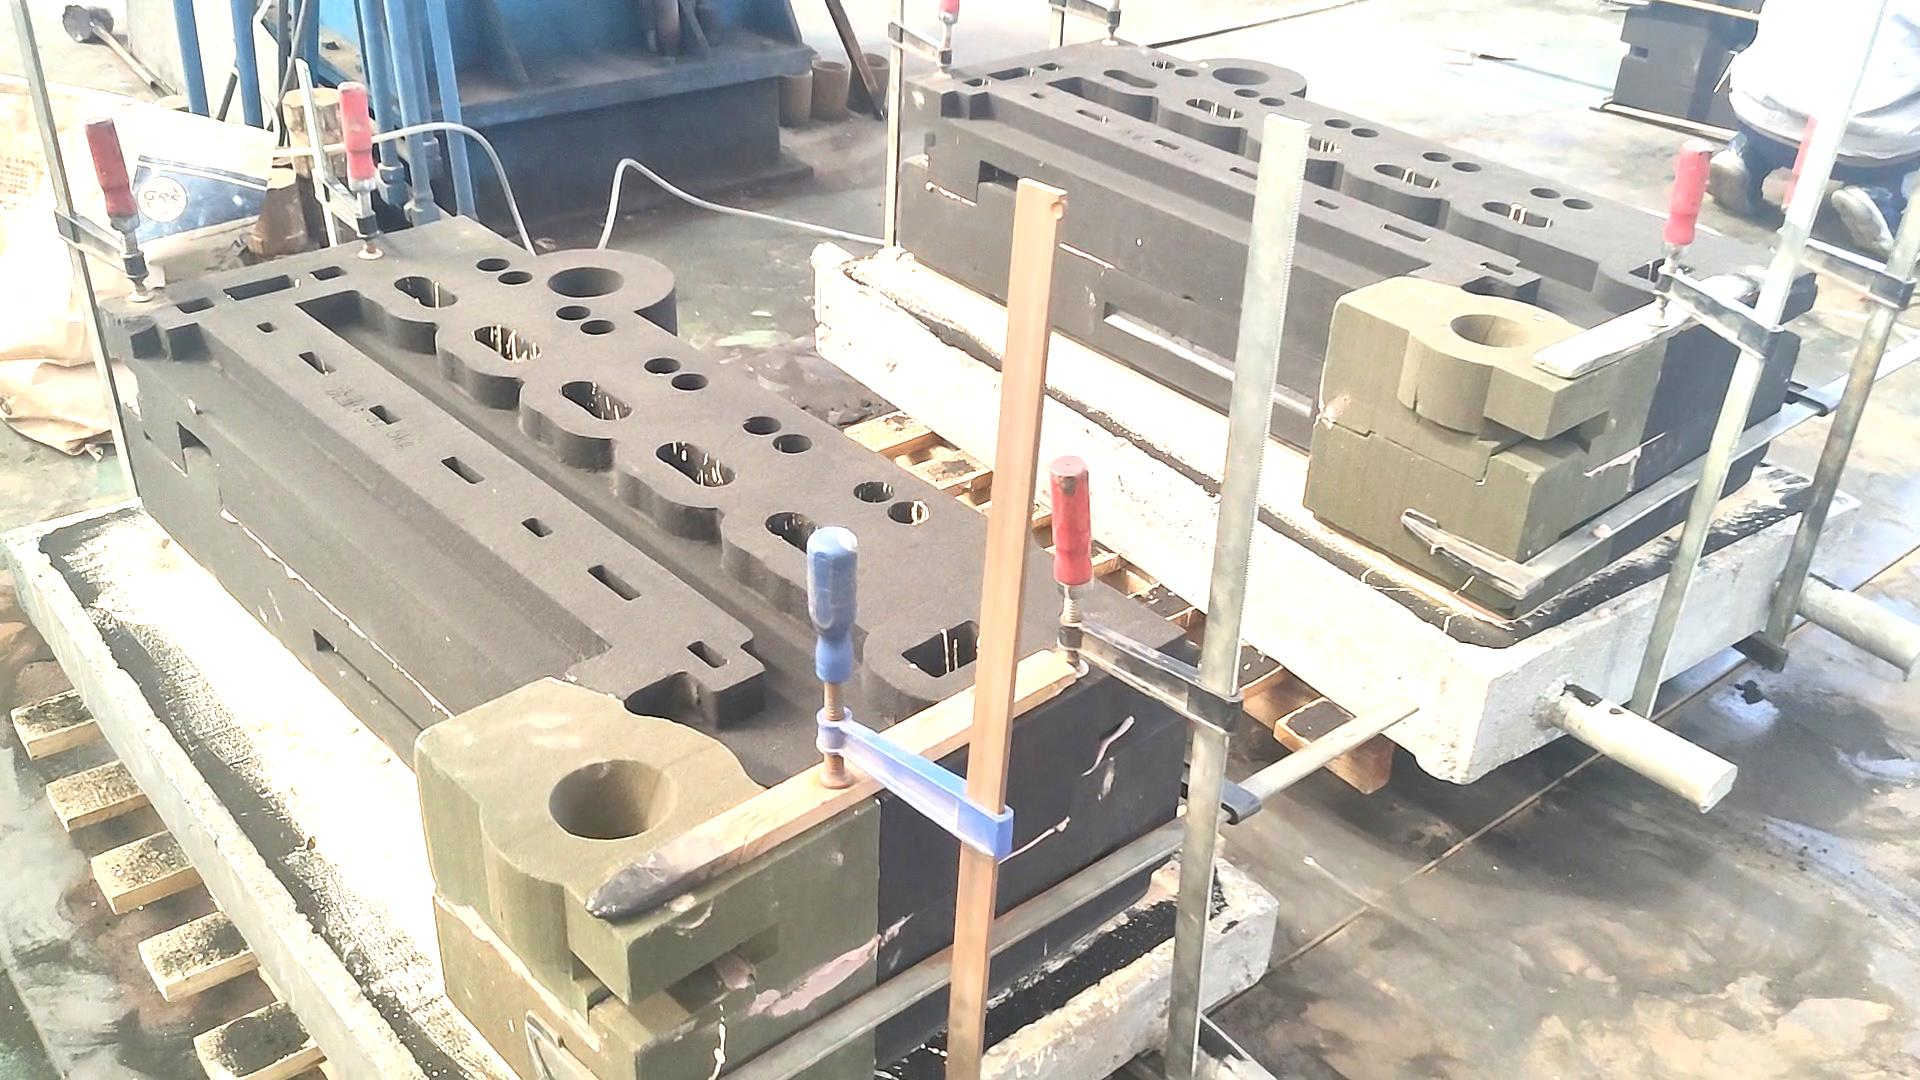pouring hole: (547, 760, 676, 840), (1449, 313, 1536, 348), (545, 266, 624, 298), (1213, 69, 1270, 84), (857, 53, 887, 70), (785, 45, 820, 58), (811, 61, 848, 73), (777, 67, 812, 78)
